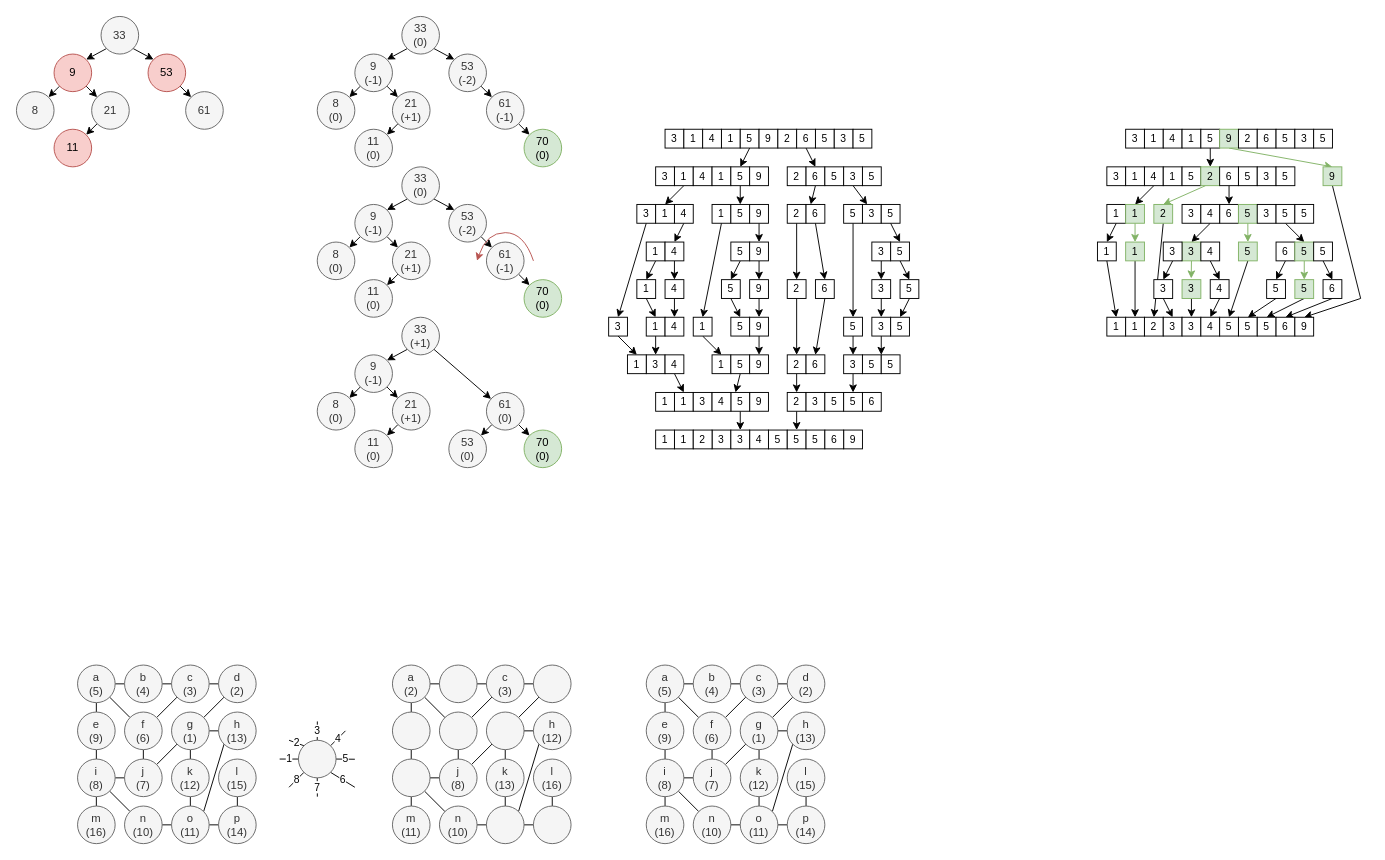
This 1385x860 diagram has some shape labels left out. The shapes that lost their labels are listed below. From the top down, each one's centre as x and y in pixels, then its label:
At pixel 458 683: "b (1)".
At pixel 552 683: "d (6)".
At pixel 411 730: "e (5)".
At pixel 458 730: "f (4)".
At pixel 505 730: "g (9)".
At pixel 317 758: "Search Order".
At pixel 411 777: "i (7)".
At pixel 505 824: "o (14)".
At pixel 552 824: "p (15)".
